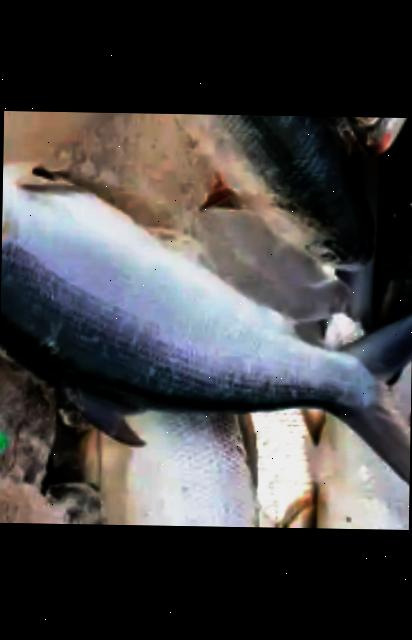Healthy Fish: (0, 179, 412, 485)
